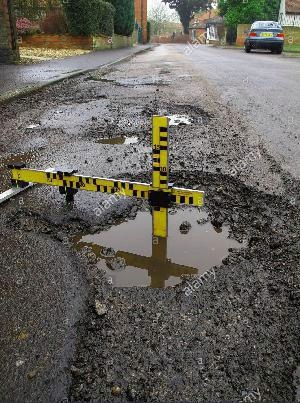pothole: (63, 164, 299, 331), (143, 96, 211, 127), (88, 129, 141, 145)
